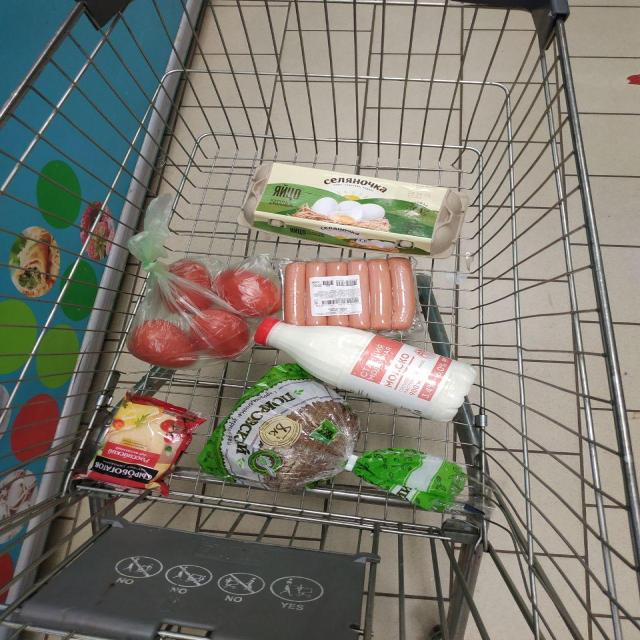Bread: (198, 364, 467, 512)
Cheese: (87, 392, 205, 496)
Eggs: (240, 162, 468, 258)
Milk: (255, 318, 477, 421)
Sausages: (283, 258, 417, 335)
Tomatoes: (128, 319, 197, 368), (217, 269, 280, 316), (192, 309, 250, 358), (168, 259, 212, 289), (183, 290, 212, 310)
